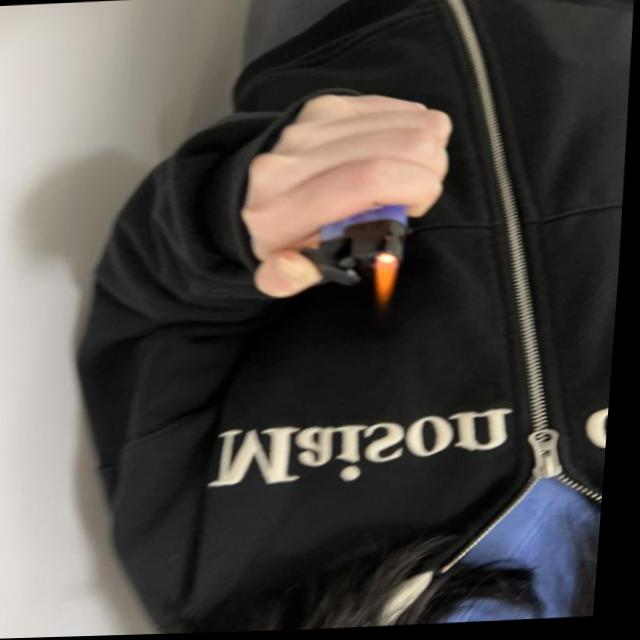Fire: (375, 253, 404, 312)
